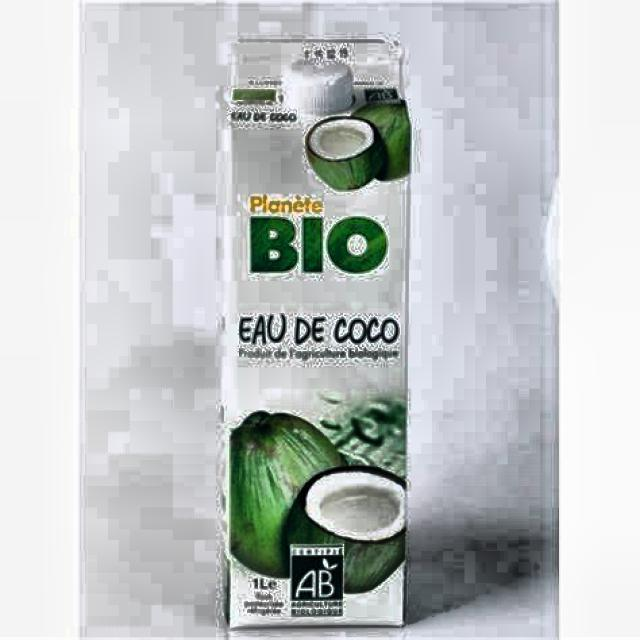cardboard: (80, 0, 560, 639)
